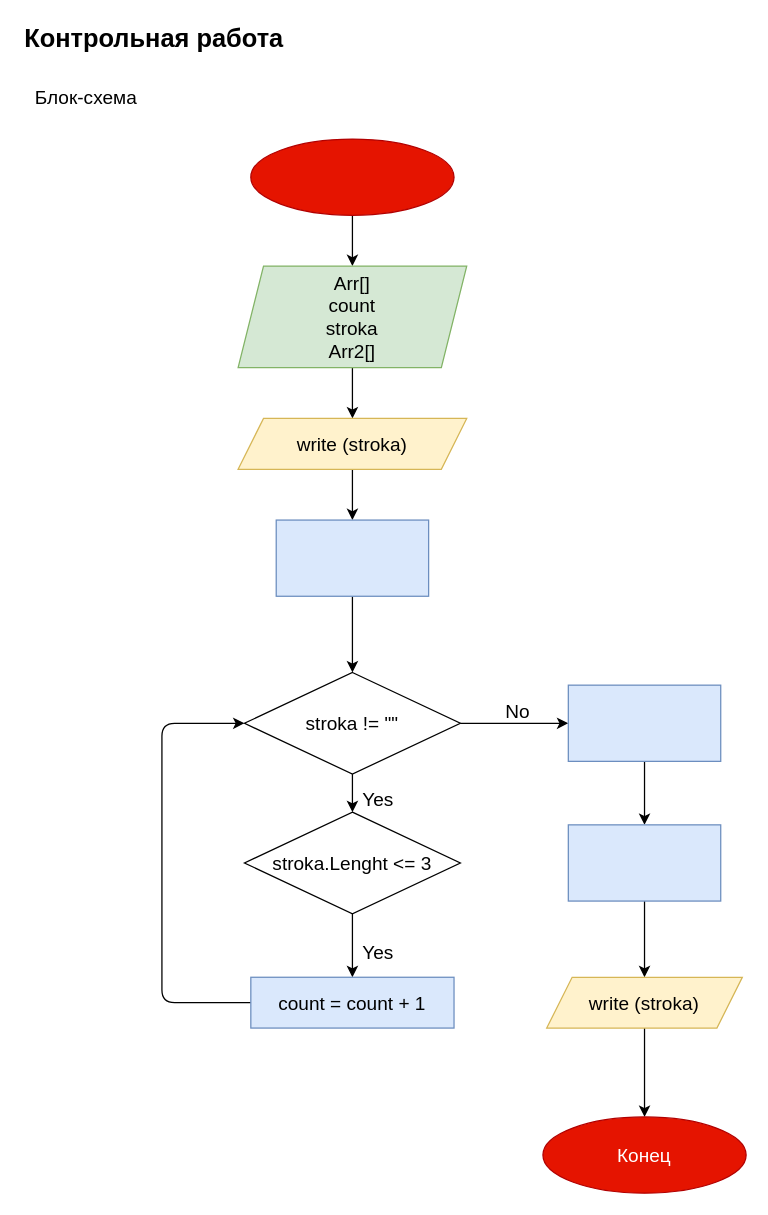
This 768x1215 diagram has some shape labels left out. Here are the shapes that lost their labels. From the top down, the centre of each, then its label:
At point (352, 176): "Начало".
At point (352, 557): "Arr[count] count = 0".
At point (644, 722): "Arr2[count]".
At point (644, 862): "Arr[] = Arr2[]".
